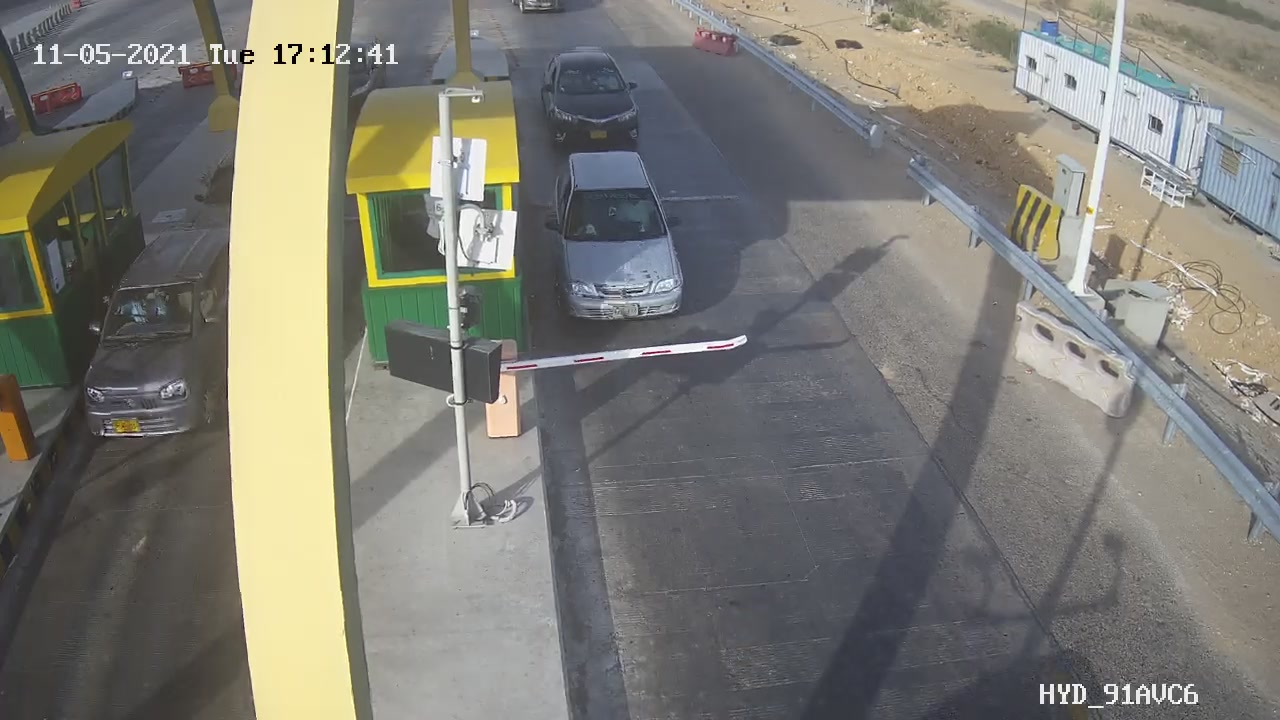F1: (537, 136, 713, 336), (527, 38, 660, 170)
